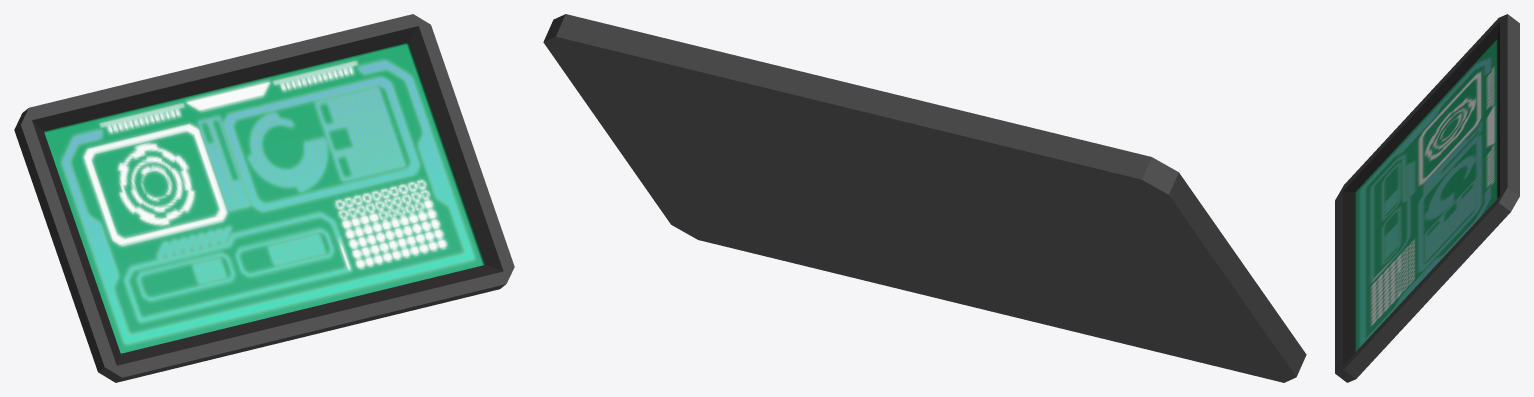
File: Terminal_010_monitor_003.fbx
3 renders of one model, left to right at view 1: azimuth 30°, elevation 25°; view 2: azimuth 150°, elevation 25°; view 3: azimuth 270°, elevation 25°, orthographic. The views are drawn at different scales.
Parts seen in each view (by area): view 1: Terminal_010_monitor_003; view 2: Terminal_010_monitor_003; view 3: Terminal_010_monitor_003.
Boxes of the visible parts, x1,y1,x2,y2 form: Terminal_010_monitor_003: [14, 14, 514, 382]; Terminal_010_monitor_003: [543, 14, 1306, 382]; Terminal_010_monitor_003: [1335, 14, 1519, 382].
Bounding box in the file's own units: 84.84 × 35.81 × 41.84.
